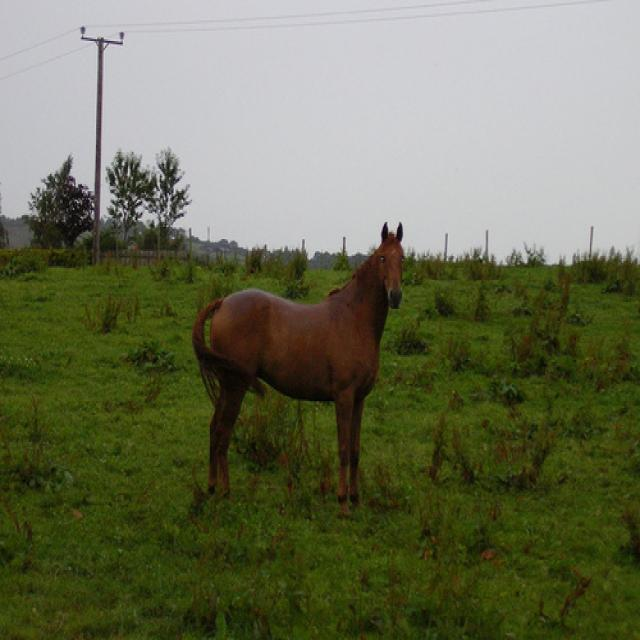horse: (189, 223, 406, 515)
